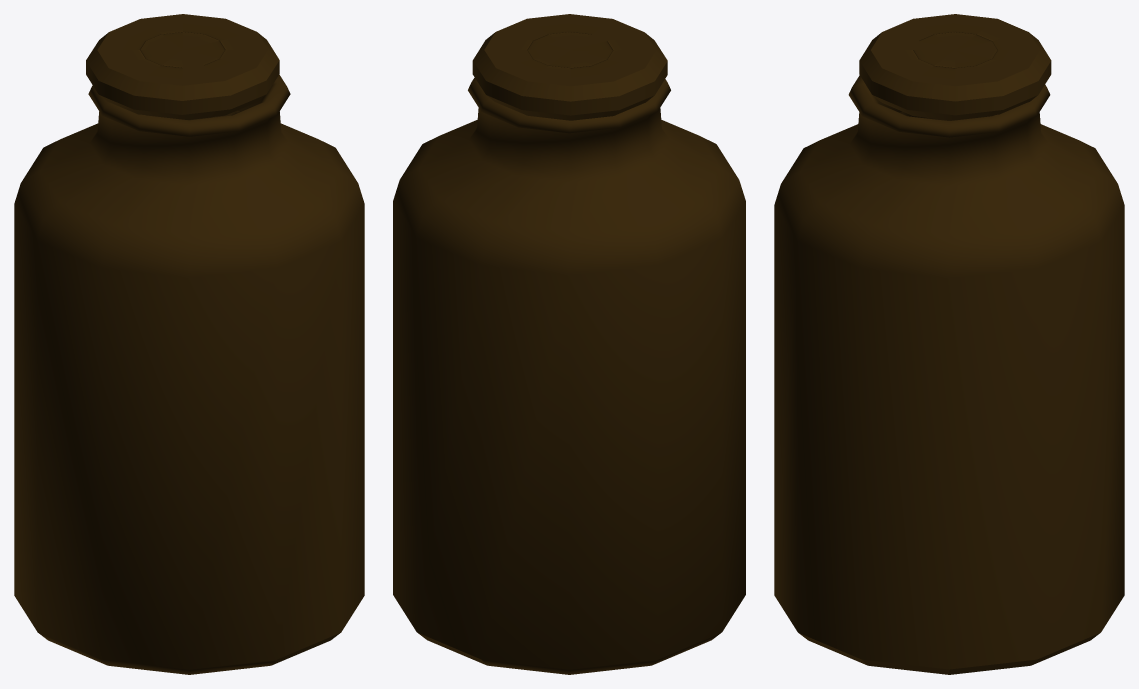
File: chemical_jar_c125ml.FBX
3 views of the same model, side by side, from view 1: azimuth 30°, elevation 25°; view 2: azimuth 150°, elevation 25°; view 3: azimuth 270°, elevation 25° (orthographic).
Parts seen in each view (by area): view 1: chemical_jar_c125ml; view 2: chemical_jar_c125ml; view 3: chemical_jar_c125ml.
Boxes of the visible parts, x1,y1,x2,y2 form: chemical_jar_c125ml: [14, 14, 364, 674]; chemical_jar_c125ml: [393, 14, 745, 674]; chemical_jar_c125ml: [774, 14, 1124, 674].
Bounding box in the file's own units: 5.61 × 9.8 × 5.61.
